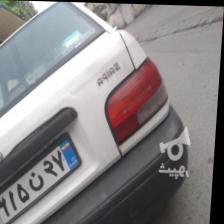plate: (0, 127, 88, 224)
